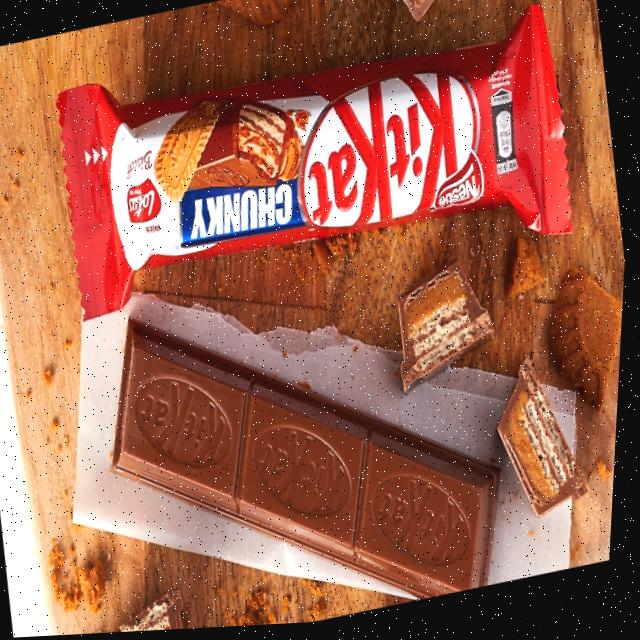kitkat: (40, 0, 591, 336)
